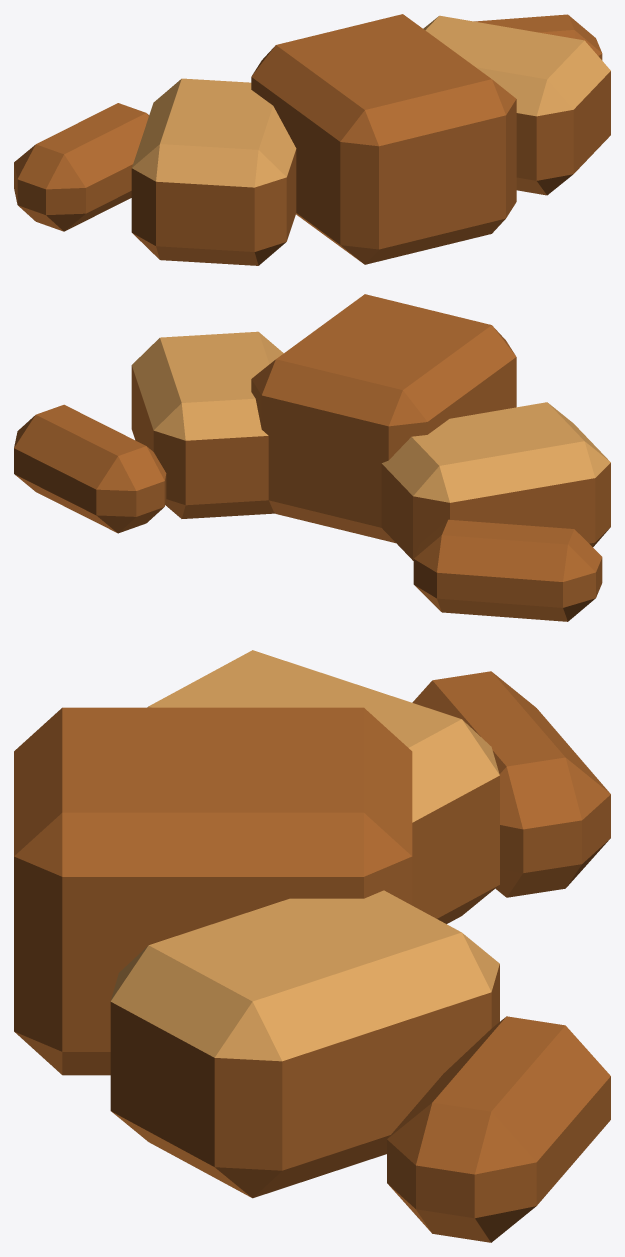
Rendered from Croissant.fbx.
3 views of the same model, one above another, from view 1: azimuth 30°, elevation 25°; view 2: azimuth 150°, elevation 25°; view 3: azimuth 270°, elevation 25° (orthographic). The views are drawn at different scales.
Visible parts, largest first — view 1: Croissant; view 2: Croissant; view 3: Croissant.
Part boxes in pixels (x1=…): Croissant: x1=14, y1=14, x2=610, y2=265; Croissant: x1=14, y1=294, x2=610, y2=621; Croissant: x1=14, y1=650, x2=610, y2=1242.
Size of the model in its own units: 2.35 by 0.6 by 1.24.
Materials: 1 (1 with a texture image).
